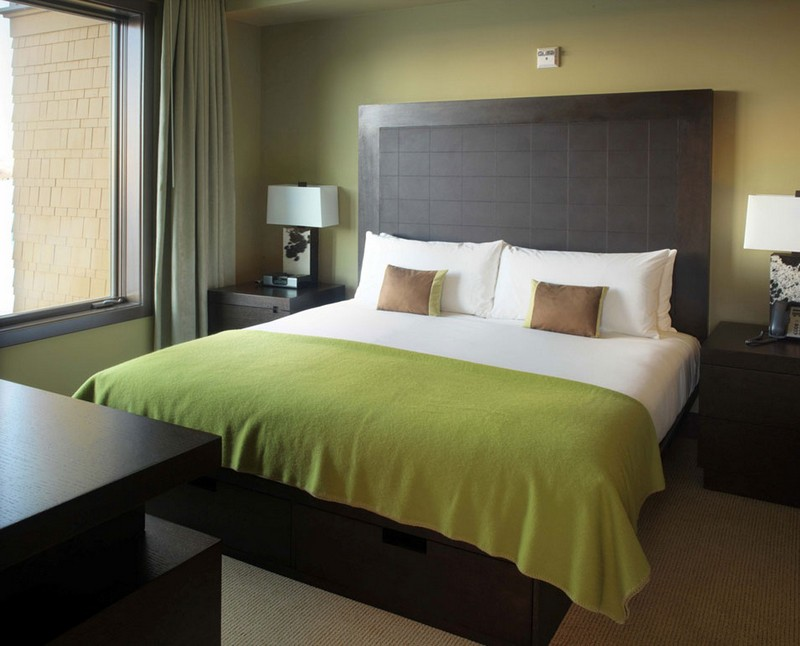bed: (176, 110, 708, 630)
lamp: (738, 190, 795, 355), (260, 171, 341, 280)
table: (3, 374, 223, 636)
